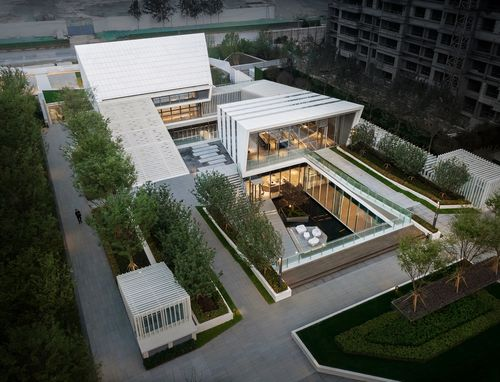buildings: (113, 251, 199, 367)
